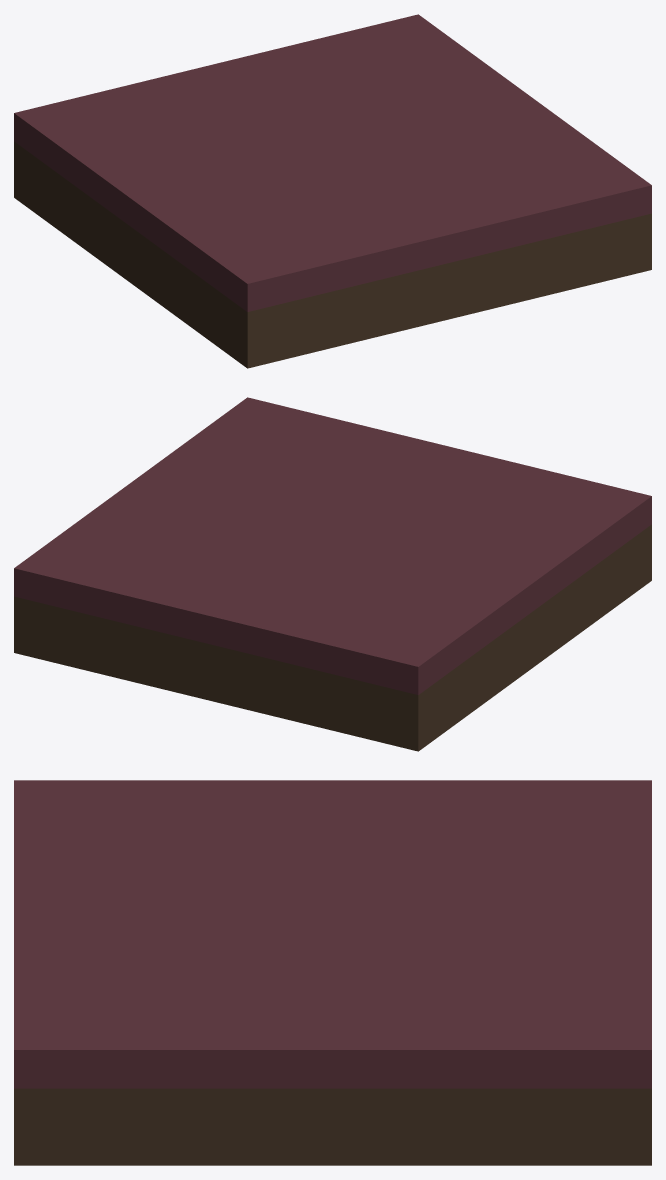
File: tiles-tile-sidewalk-intersection-t.glb
The picture shows the model from 3 angles, top to bottom: view 1: azimuth 30°, elevation 25°; view 2: azimuth 150°, elevation 25°; view 3: azimuth 270°, elevation 25°; orthographic projection. The views are drawn at different scales.
Parts seen in each view (by area): view 1: tile-sidewalk-intersection-t; view 2: tile-sidewalk-intersection-t; view 3: tile-sidewalk-intersection-t.
Part boxes in pixels (left/top/right/bottom): tile-sidewalk-intersection-t: left=14, top=14, right=651, bottom=368; tile-sidewalk-intersection-t: left=14, top=397, right=651, bottom=751; tile-sidewalk-intersection-t: left=14, top=780, right=651, bottom=1165.
Size of the model in its own units: 30 by 6 by 30.
